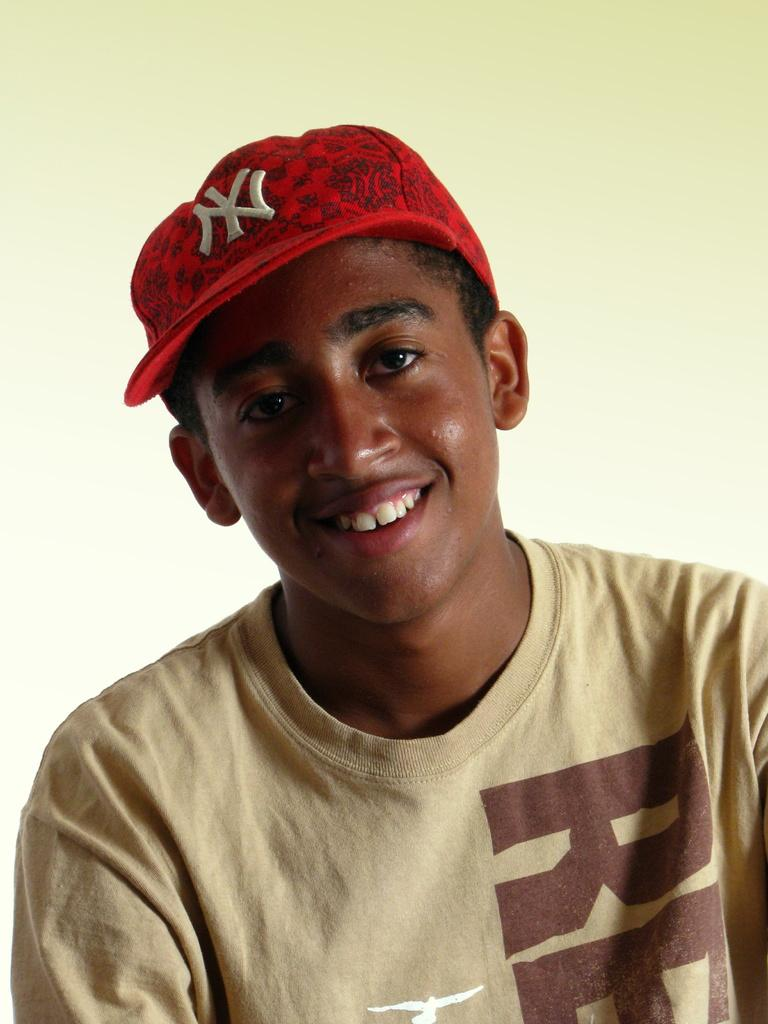Hat: (128, 125, 489, 406)
